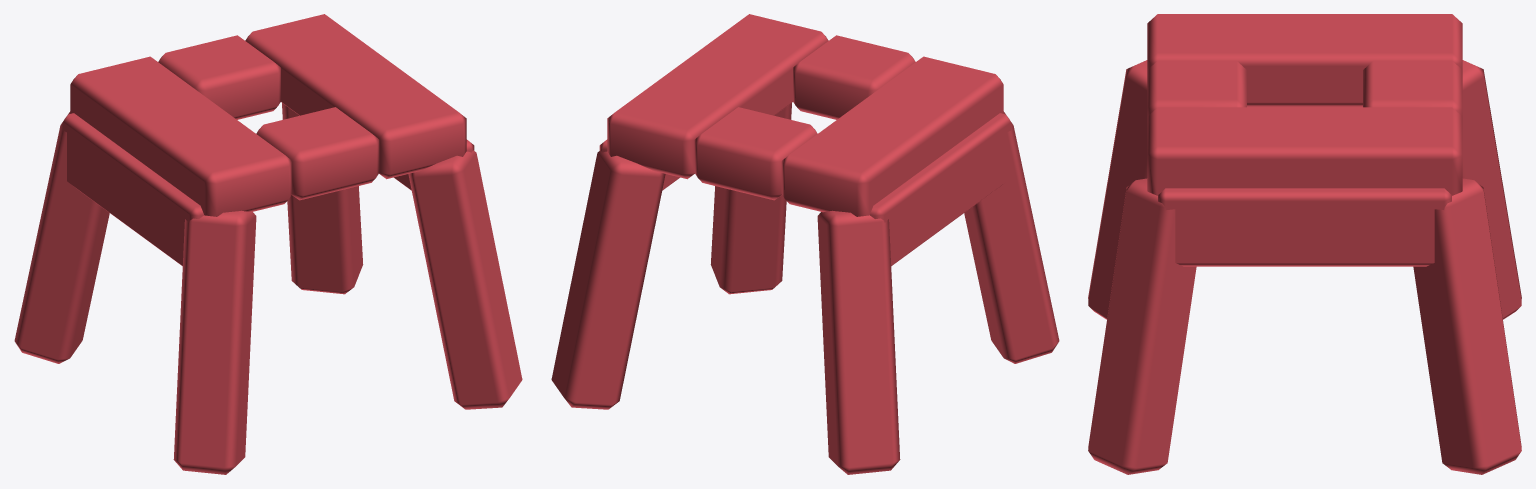
File: market_stool.glb
3 renders of one model, left to right at view 1: azimuth 30°, elevation 25°; view 2: azimuth 150°, elevation 25°; view 3: azimuth 270°, elevation 25°, orthographic. The views are drawn at different scales.
Parts seen in each view (by area): view 1: market_stool; view 2: market_stool; view 3: market_stool.
Part boxes in pixels (bbox=[...]): market_stool: bbox=[14, 14, 522, 474]; market_stool: bbox=[551, 14, 1059, 474]; market_stool: bbox=[1088, 14, 1521, 474].
Size of the model in its own units: 0.6205 by 0.4939 by 0.6195.
